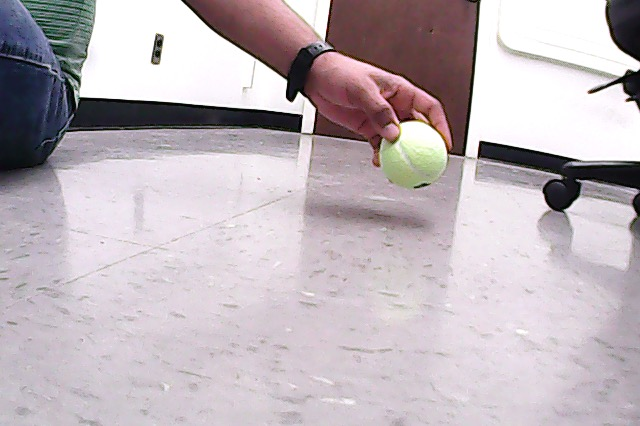ball: (376, 118, 450, 192)
